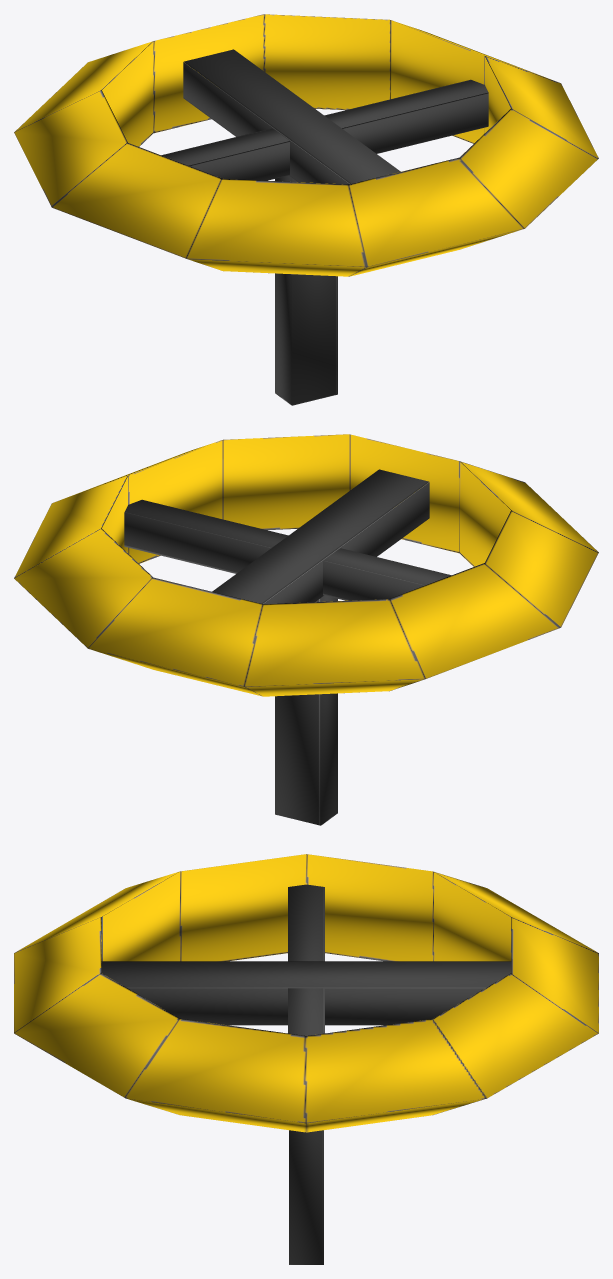
Rendered from SteeringWheel.fbx.
3 renders of one model, top to bottom at view 1: azimuth 30°, elevation 25°; view 2: azimuth 150°, elevation 25°; view 3: azimuth 270°, elevation 25°, orthographic. The views are drawn at different scales.
Visible parts, largest first — view 1: Torus; view 2: Torus; view 3: Torus.
Boxes of the visible parts, x1,y1,x2,y2 form: Torus: (14,14,598,405); Torus: (14,434,598,825); Torus: (14,854,598,1264).
Size of the model in its own units: 2.5 by 1.38 by 2.38.
